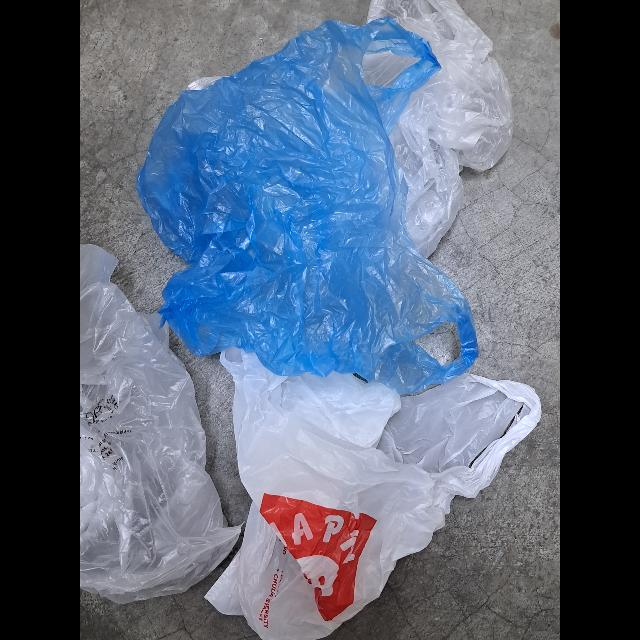sacola plástica: (139, 18, 479, 394), (204, 344, 544, 640), (80, 244, 244, 600), (360, 1, 512, 260)
